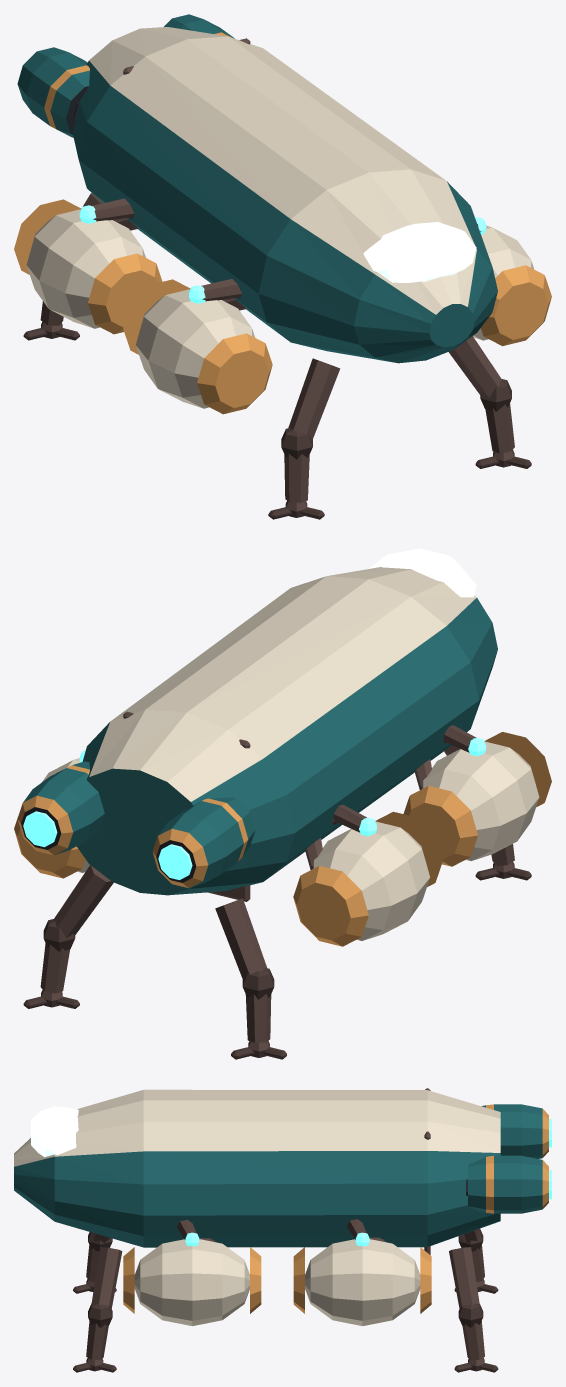
File: spo-f_gelandet.glb
3 renders of one model, top to bottom at view 1: azimuth 30°, elevation 25°; view 2: azimuth 150°, elevation 25°; view 3: azimuth 270°, elevation 25°, orthographic. The views are drawn at different scales.
Visible parts, largest first — view 1: rumpf, frachtkammer_2, frachtkammer_4, frachtkammer_1, cockpit, landebein_2, triebwerk_r, landebein_1, wurzelstrebe_4, landebein_4, wurzelstrebe_2, triebwerk_l; view 2: rumpf, frachtkammer_4, frachtkammer_2, triebwerk_r, triebwerk_l, landebein_4, landebein_3, cockpit, frachtkammer_3, wurzelstrebe_4, landebein_2, wurzelstrebe_2; view 3: rumpf, frachtkammer_1, frachtkammer_3, triebwerk_l, landebein_3, landebein_1, triebwerk_r, cockpit, landebein_4, landebein_2, wurzelstrebe_3, wurzelstrebe_1.
Boxes of the visible parts, x1,y1,x2,y2 form: rumpf: (72, 27, 497, 363); frachtkammer_2: (123, 279, 272, 414); frachtkammer_4: (14, 199, 162, 334); frachtkammer_1: (473, 225, 551, 346); cockpit: (363, 222, 476, 282); landebein_2: (268, 358, 340, 519); triebwerk_r: (17, 47, 89, 137); landebein_1: (449, 336, 531, 468); wurzelstrebe_4: (79, 198, 138, 230); landebein_4: (23, 193, 103, 340); wurzelstrebe_2: (189, 279, 246, 310); triebwerk_l: (164, 14, 234, 38); rumpf: (77, 567, 497, 895); frachtkammer_4: (293, 811, 442, 946); frachtkammer_2: (403, 732, 551, 866); triebwerk_r: (152, 797, 255, 888); triebwerk_l: (17, 761, 104, 855); landebein_4: (215, 898, 286, 1059); landebein_3: (23, 865, 113, 1008); cockpit: (369, 548, 476, 597); frachtkammer_3: (14, 758, 89, 878); wurzelstrebe_4: (305, 804, 376, 869); landebein_2: (444, 745, 531, 880); wurzelstrebe_2: (414, 725, 486, 789); rumpf: (14, 1089, 500, 1247); frachtkammer_1: (123, 1239, 261, 1326); frachtkammer_3: (293, 1239, 431, 1326); triebwerk_l: (466, 1155, 551, 1213); landebein_3: (449, 1247, 498, 1372); landebein_1: (73, 1247, 122, 1372); triebwerk_r: (481, 1104, 551, 1158); cockpit: (31, 1106, 78, 1157); landebein_4: (454, 1228, 498, 1293); landebein_2: (73, 1232, 116, 1293); wurzelstrebe_3: (347, 1219, 385, 1246); wurzelstrebe_1: (177, 1219, 215, 1246).
Bounding box in the file's own units: 0.105 × 0.0788 × 0.1659.
